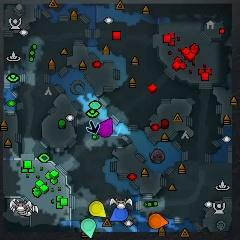p1: (108, 206, 128, 223)
p2: (81, 218, 96, 238)
p3: (97, 117, 113, 138)
p4: (88, 200, 106, 218)
p5: (148, 213, 168, 230)
x3Clone: (86, 120, 100, 134)
